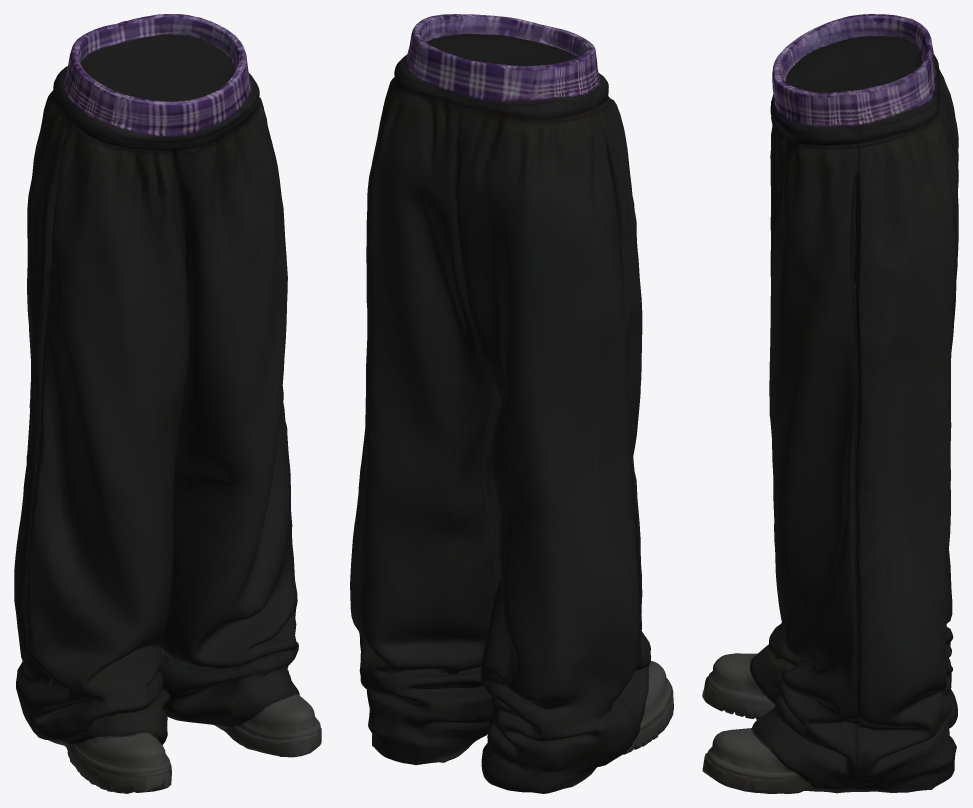
The model's file is baggy-pants-negro-violeta.glb.
The picture shows the model from 3 angles, left to right: view 1: azimuth 30°, elevation 25°; view 2: azimuth 150°, elevation 25°; view 3: azimuth 270°, elevation 25°; orthographic projection. The views are drawn at different scales.
Parts seen in each view (by area): view 1: tripo_node_143e77c1-b87f-43c9-b70e-30acd8ef2702; view 2: tripo_node_143e77c1-b87f-43c9-b70e-30acd8ef2702; view 3: tripo_node_143e77c1-b87f-43c9-b70e-30acd8ef2702.
Part boxes in pixels (left/top/right/bottom): tripo_node_143e77c1-b87f-43c9-b70e-30acd8ef2702: left=14, top=14, right=321, bottom=793; tripo_node_143e77c1-b87f-43c9-b70e-30acd8ef2702: left=350, top=14, right=673, bottom=793; tripo_node_143e77c1-b87f-43c9-b70e-30acd8ef2702: left=702, top=14, right=958, bottom=793.
Size of the model in its own units: 0.4134 by 1 by 0.3318.
1 material, 1 textured.
